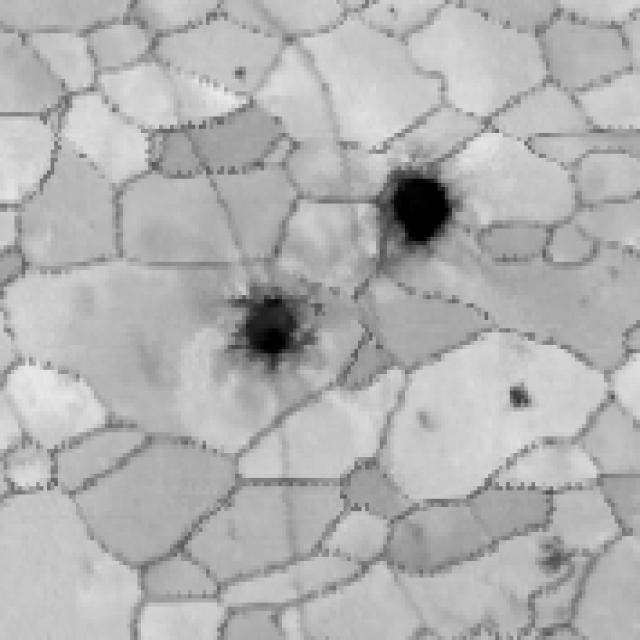good_void: (211, 284, 317, 378), (382, 171, 457, 264), (535, 531, 598, 586), (504, 377, 551, 421), (414, 403, 444, 440), (224, 59, 250, 86)
